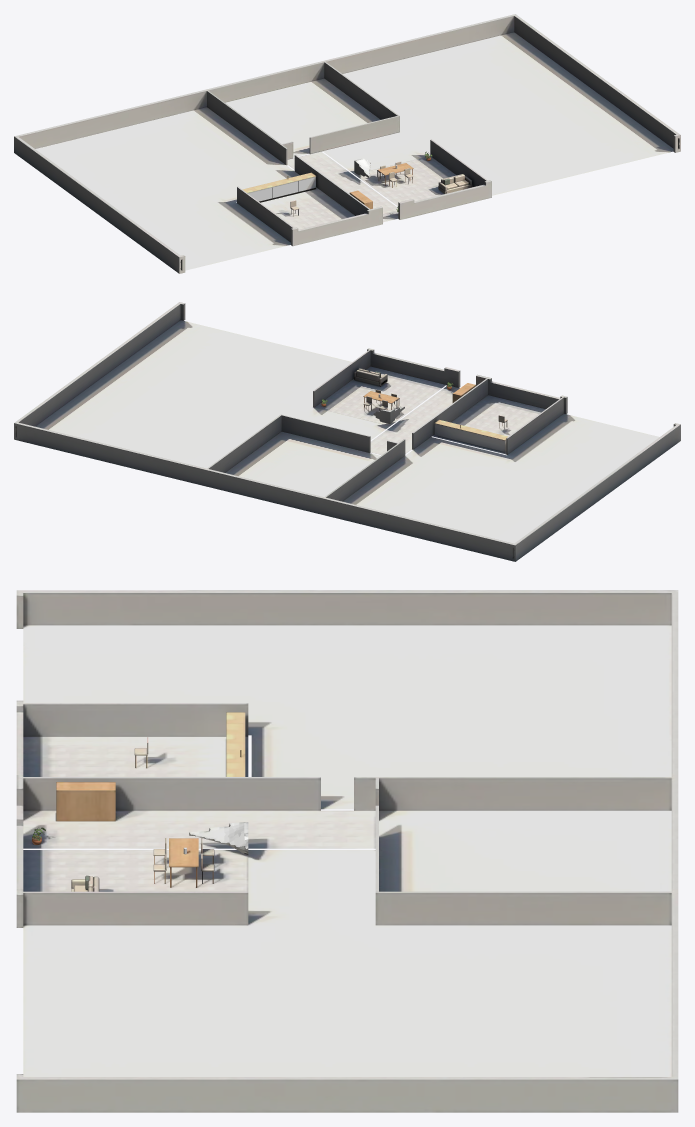
File: planta-1.glb
3 views of the same model, one above another, from view 1: azimuth 30°, elevation 25°; view 2: azimuth 150°, elevation 25°; view 3: azimuth 270°, elevation 25° (orthographic). The views are drawn at different scales.
Parts seen in each view (by area): view 1: horneado; view 2: horneado; view 3: horneado.
Boxes of the visible parts, x1=… form: horneado: x1=14, y1=14, x2=680, y2=273; horneado: x1=14, y1=302, x2=680, y2=561; horneado: x1=16, y1=590, x2=678, y2=1112.
Size of the model in its own units: 35 by 1.12 by 20.
Materials: 3 (3 with a texture image).
